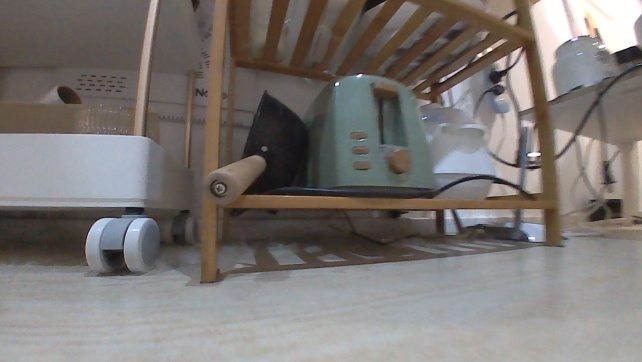wire: (273, 170, 540, 202), (555, 60, 641, 159), (494, 151, 543, 170)
